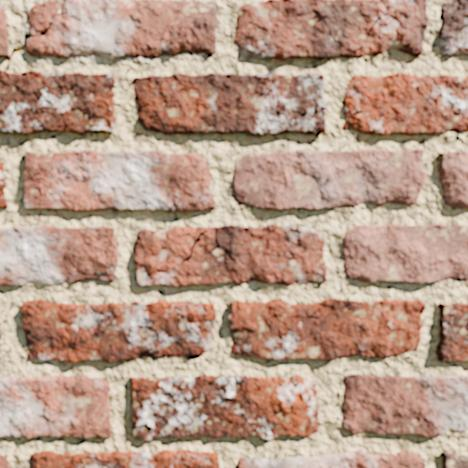brick: (228, 298, 424, 360), (22, 299, 214, 362), (135, 72, 325, 134), (131, 376, 317, 439), (134, 224, 325, 285), (24, 150, 214, 210), (235, 0, 427, 59), (233, 150, 425, 209), (342, 374, 467, 436), (343, 74, 467, 134), (343, 224, 467, 282), (0, 71, 114, 134), (0, 375, 111, 437), (0, 226, 117, 284), (31, 450, 218, 467), (238, 451, 424, 467), (436, 303, 467, 361), (439, 0, 467, 56), (439, 152, 467, 207), (0, 5, 8, 55), (443, 452, 467, 467), (0, 162, 6, 207), (0, 455, 8, 467)
broken_brick: (25, 0, 217, 58), (26, 0, 61, 33)
crack: (2, 0, 67, 72), (266, 91, 292, 132), (92, 243, 117, 275), (306, 90, 320, 133), (162, 198, 207, 211), (453, 23, 467, 40)
